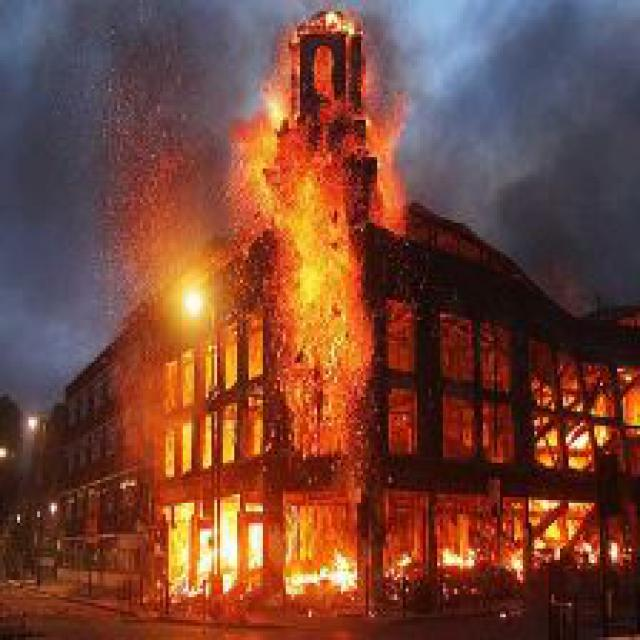fire: (237, 3, 406, 463), (174, 506, 403, 588)
